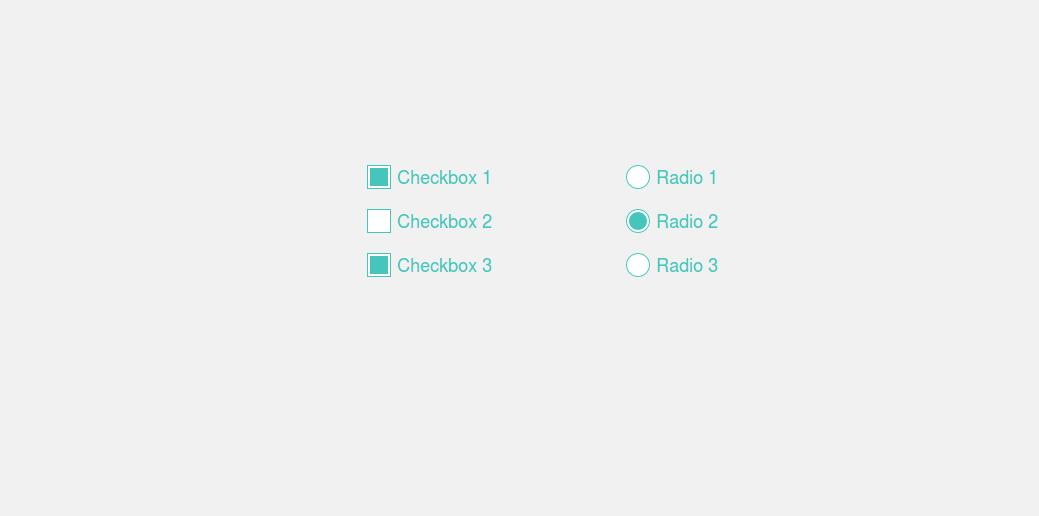checkbox: (356, 199, 395, 245), (360, 157, 398, 196), (356, 250, 394, 279)
radiobutton: (617, 249, 655, 281), (614, 209, 653, 239), (619, 164, 653, 197)
